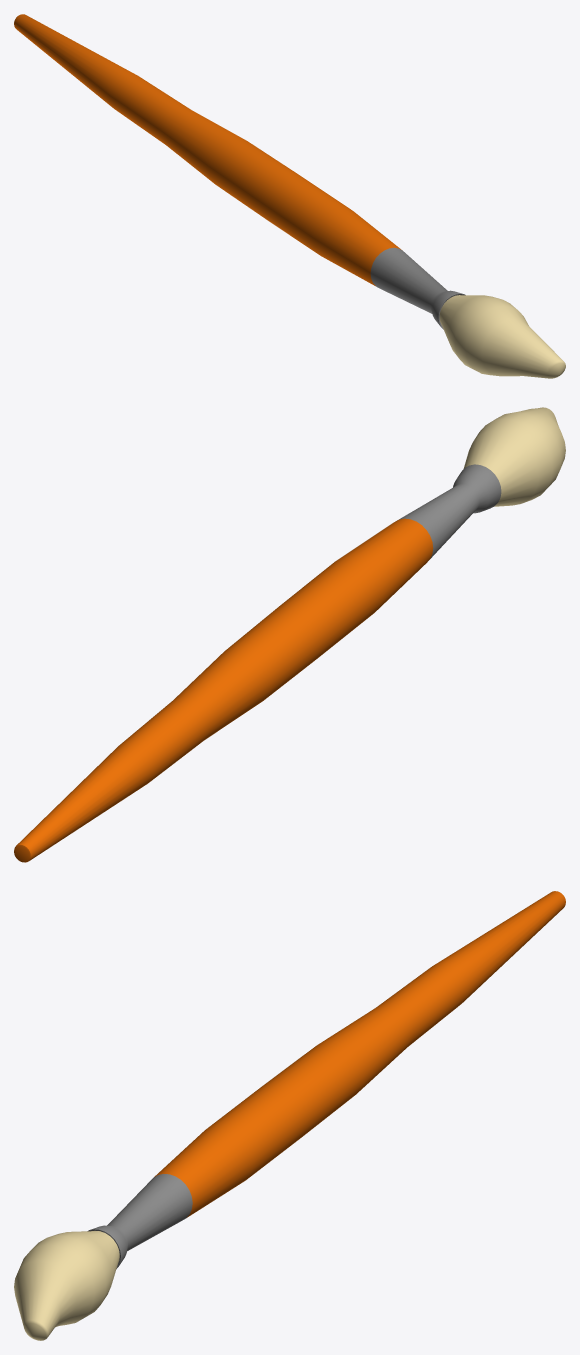
Rendered from brush.fbx.
3 renders of one model, top to bottom at view 1: azimuth 30°, elevation 25°; view 2: azimuth 150°, elevation 25°; view 3: azimuth 330°, elevation 25°, orthographic. The views are drawn at different scales.
Visible parts, largest first — view 1: Circle.010; view 2: Circle.010; view 3: Circle.010.
Boxes of the visible parts, bbox=[...] form: Circle.010: bbox=[14, 14, 565, 378]; Circle.010: bbox=[14, 407, 565, 862]; Circle.010: bbox=[14, 891, 565, 1340].
Size of the model in its own units: 0.413 by 0.3963 by 5.13.
